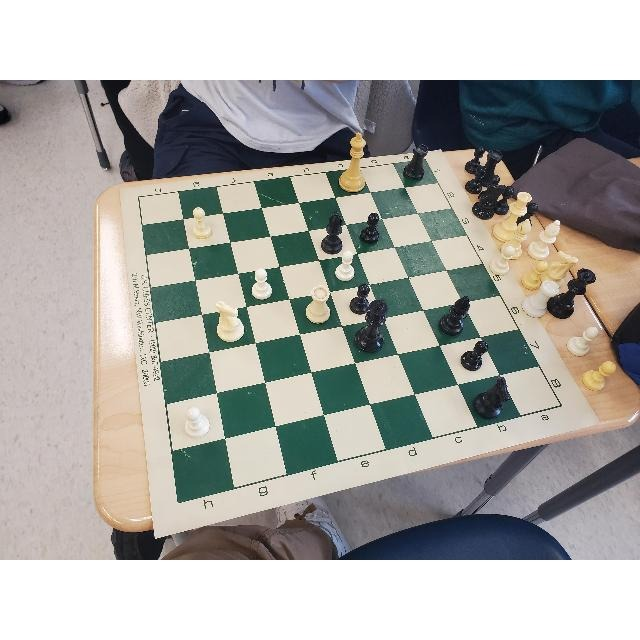black-bishop: (440, 295, 472, 335), (320, 209, 346, 254)
black-knight: (470, 373, 512, 420), (354, 298, 388, 353)
black-pawn: (457, 339, 490, 373), (358, 210, 381, 246), (346, 282, 371, 315)
black-rook: (402, 141, 428, 182)
white-king: (336, 130, 371, 193)
white-knight: (214, 297, 248, 344)
white-pawn: (182, 405, 212, 439), (249, 267, 275, 302), (191, 206, 215, 240), (334, 248, 358, 281)
white-rook: (303, 286, 334, 324)
